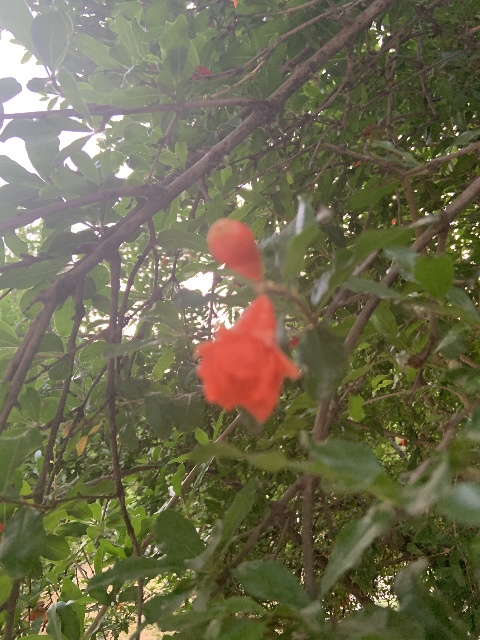bud: (207, 218, 264, 284)
flower: (194, 294, 300, 423)
